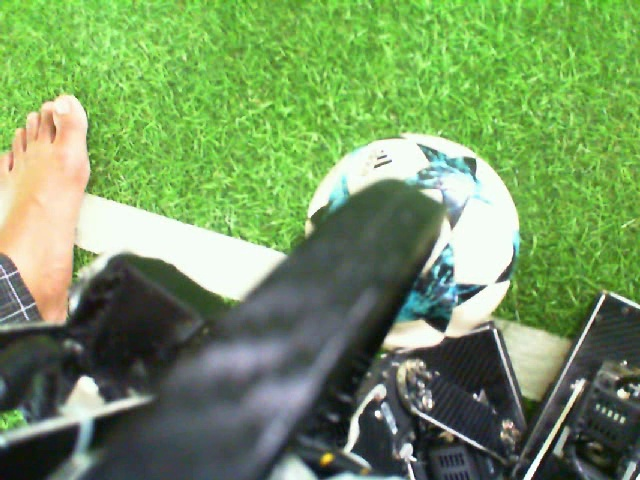ball: (383, 127, 521, 354)
